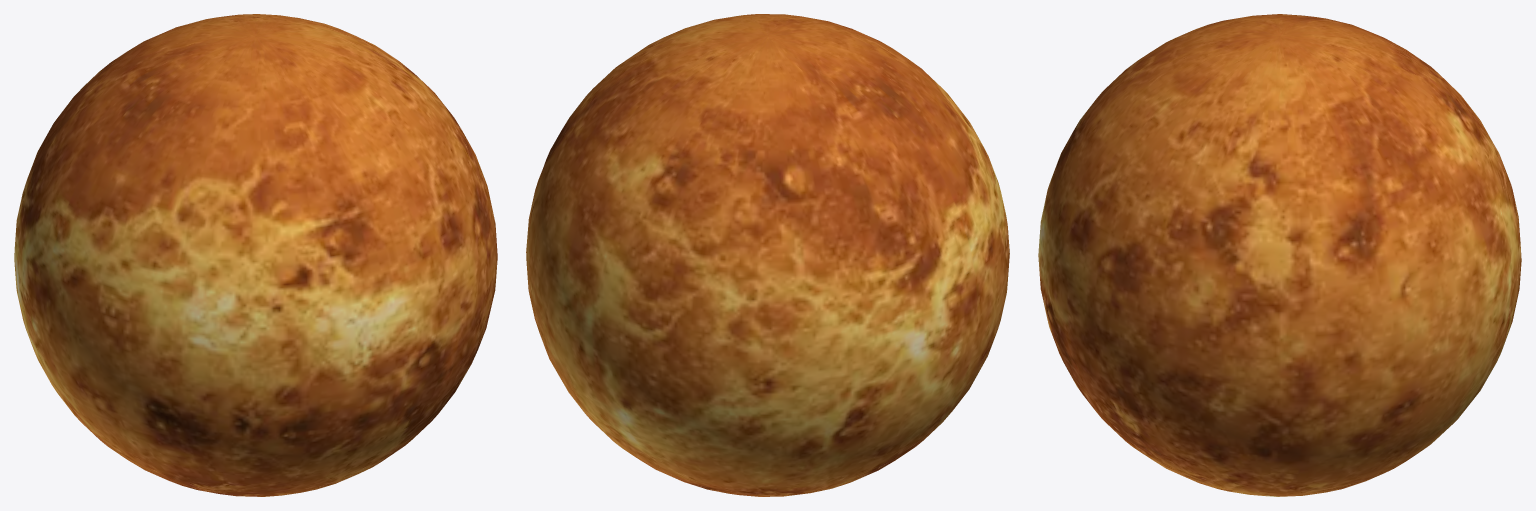
The model's file is 1venus.glb.
3 views of the same model, side by side, from view 1: azimuth 30°, elevation 25°; view 2: azimuth 150°, elevation 25°; view 3: azimuth 270°, elevation 25° (orthographic).
Parts seen in each view (by area): view 1: Sphere_Material.002_0; view 2: Sphere_Material.002_0; view 3: Sphere_Material.002_0.
Part boxes in pixels (bbox=[...]): Sphere_Material.002_0: bbox=[14, 14, 497, 496]; Sphere_Material.002_0: bbox=[526, 14, 1009, 496]; Sphere_Material.002_0: bbox=[1038, 14, 1521, 496].
Bounding box in the file's own units: 200 × 200 × 200.
Materials: 1 (1 with a texture image).
